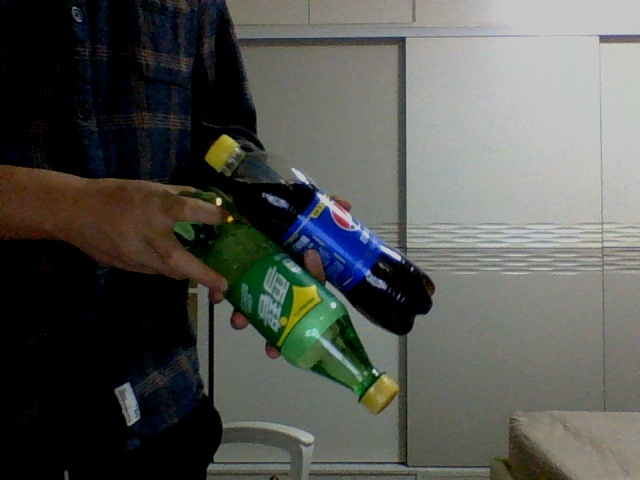Cola: (206, 134, 435, 333)
Sprite: (170, 190, 396, 410)
